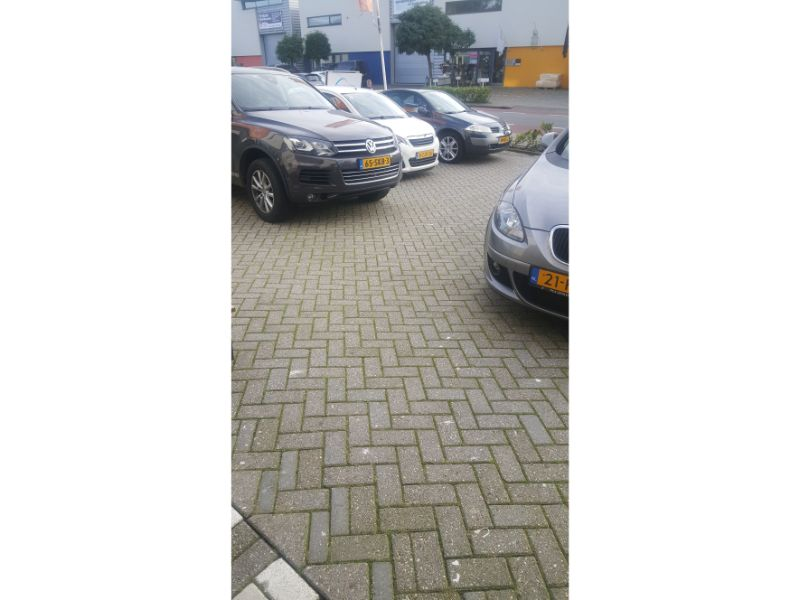kenteken: (360, 154, 391, 167), (414, 149, 436, 159)
